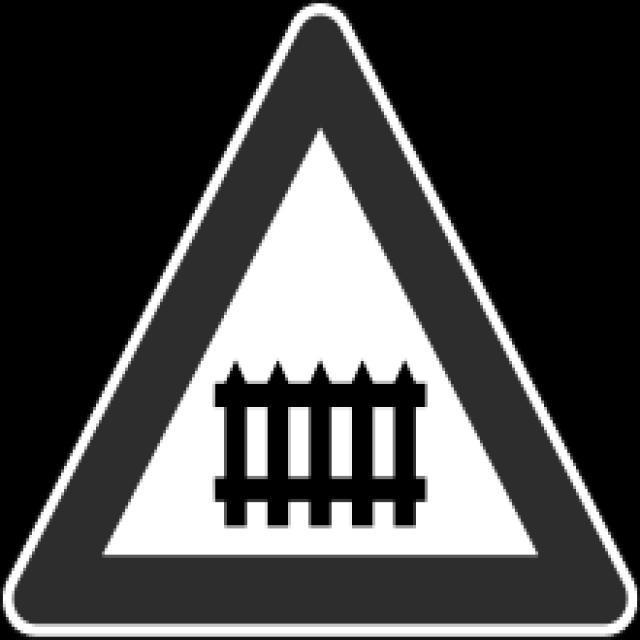guarded level crossing: (38, 28, 608, 613)
